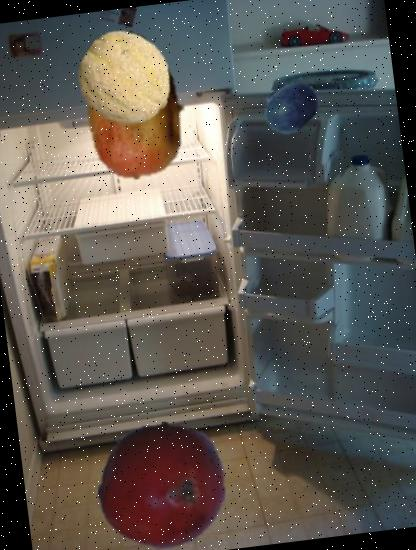Cantaloupe: (72, 26, 179, 133)
Huckleberry: (258, 74, 322, 139)
Papaya: (53, 22, 219, 188)
Pomegranate: (91, 414, 233, 550)
